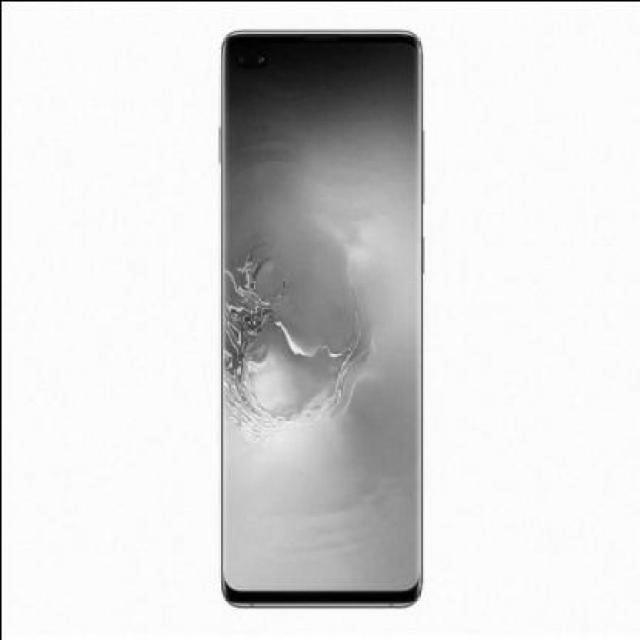fake: (216, 29, 426, 611)
